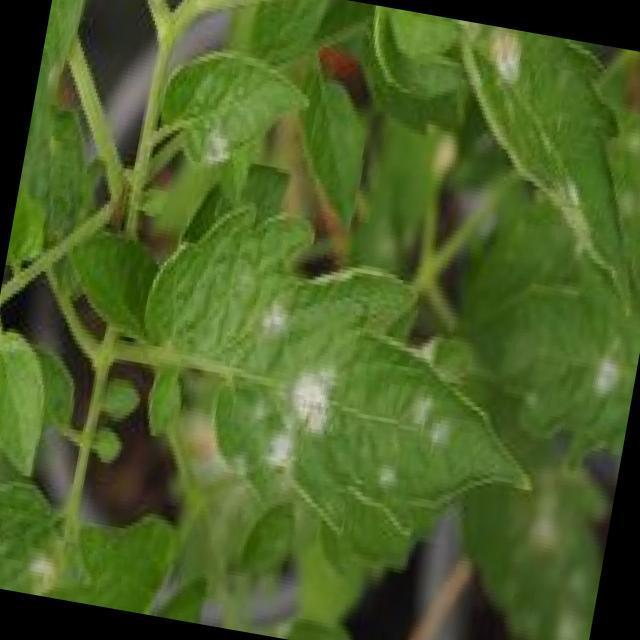Mosaic Virus: (180, 278, 474, 528), (461, 26, 628, 230), (154, 49, 311, 195)
